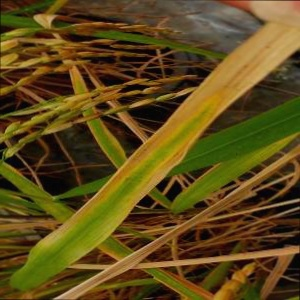Leaf_Blast: (58, 181, 123, 273)
